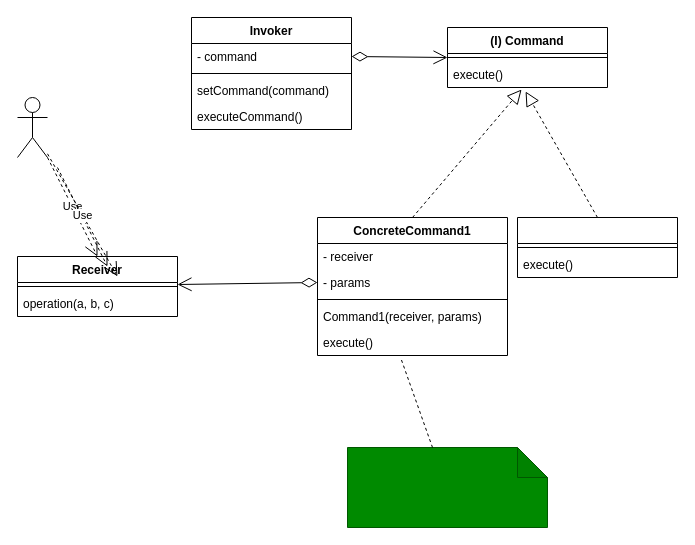
Image size: 695x545. Some labels were removed from this diagram. The shapes that lost their labels are listed below. From the top down, each one's box as (x1, y1, x2, y2) in pixels, then its label:
(516, 216, 678, 278): ConcreateCommand2
(346, 446, 548, 528): ・Receiverを使用してより複雑なことをすることもできる
